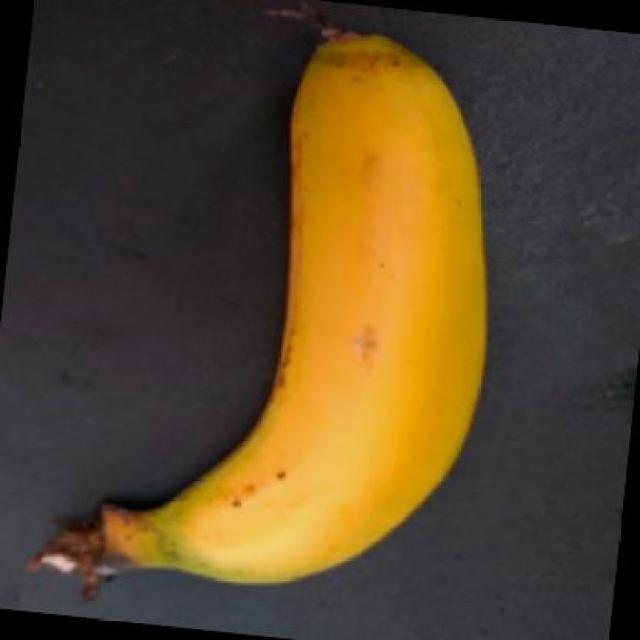Ripe: (18, 4, 550, 624)
